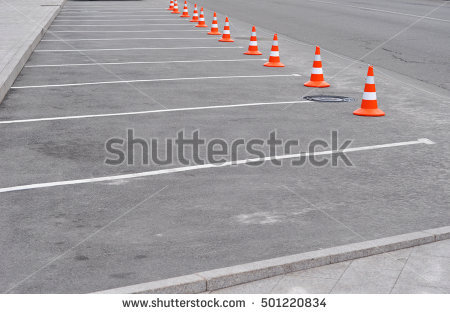cone: (351, 64, 388, 120), (304, 44, 330, 89), (262, 31, 284, 71), (244, 23, 264, 57), (217, 14, 233, 44), (208, 11, 222, 37), (196, 5, 207, 30), (179, 1, 191, 19), (190, 2, 201, 20), (170, 1, 182, 16)
